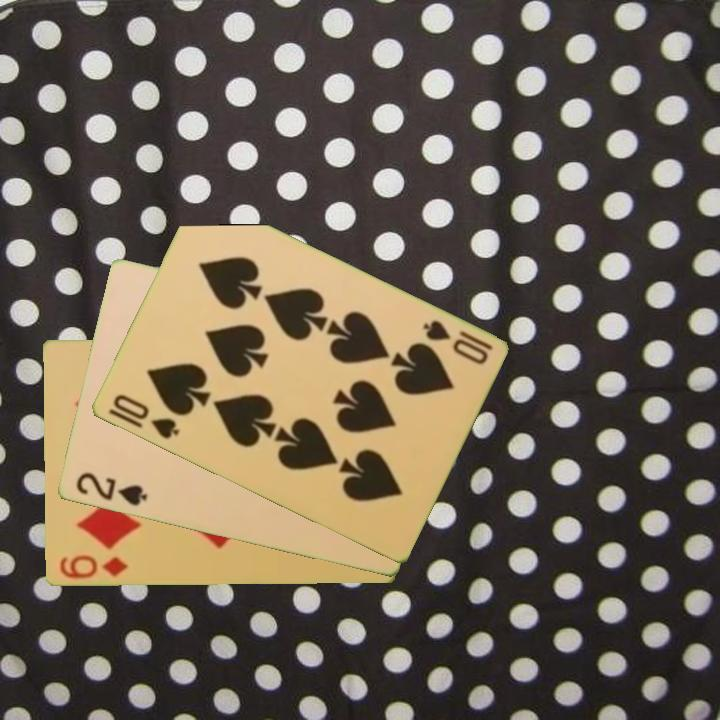10s: (418, 317, 496, 368), (109, 391, 182, 443)
2s: (72, 469, 150, 509)
6d: (56, 552, 131, 582)
